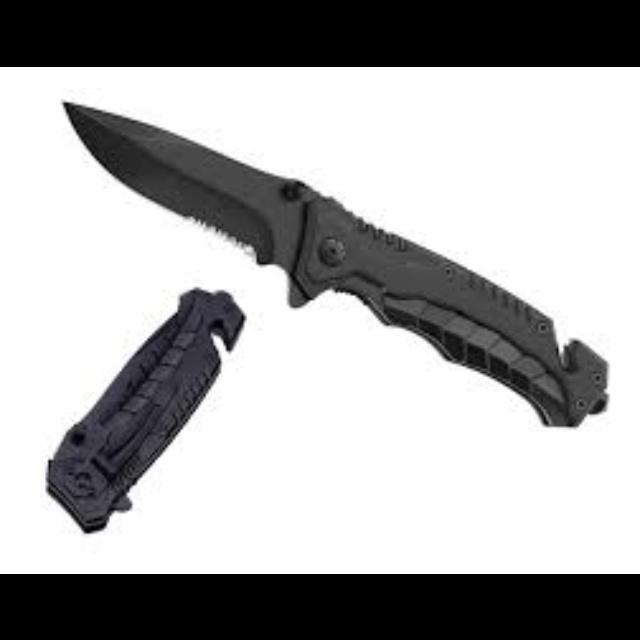Knife: (58, 97, 610, 427)
